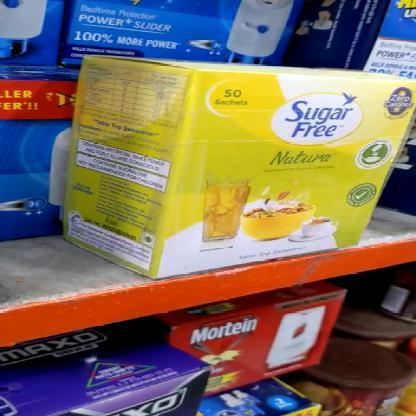SUGAR FREE NATURA SACHET 50: (191, 72, 415, 279)
